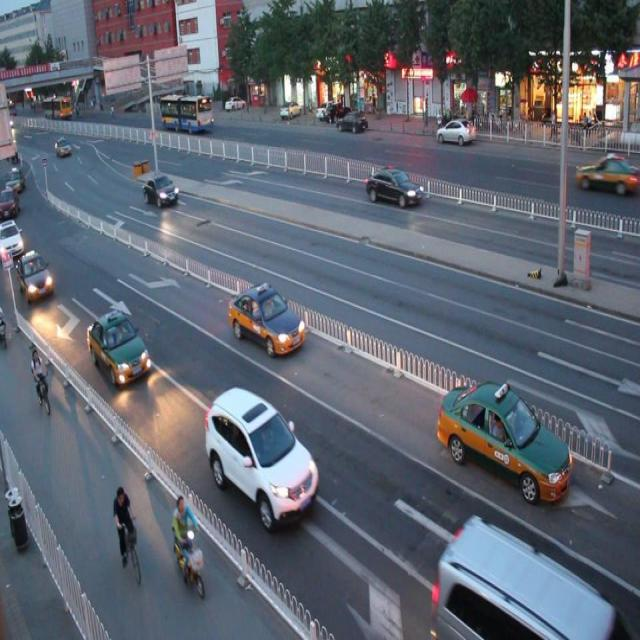BigCar: (157, 88, 218, 135)
car: (428, 507, 640, 640), (438, 363, 588, 501), (207, 382, 328, 530), (229, 271, 308, 363), (85, 302, 155, 394), (574, 143, 639, 197), (366, 159, 426, 212), (14, 251, 53, 306), (144, 170, 182, 214), (437, 115, 476, 146), (333, 108, 369, 140), (0, 218, 25, 262), (278, 93, 304, 123), (4, 163, 25, 196), (51, 135, 76, 162), (224, 94, 249, 114)
